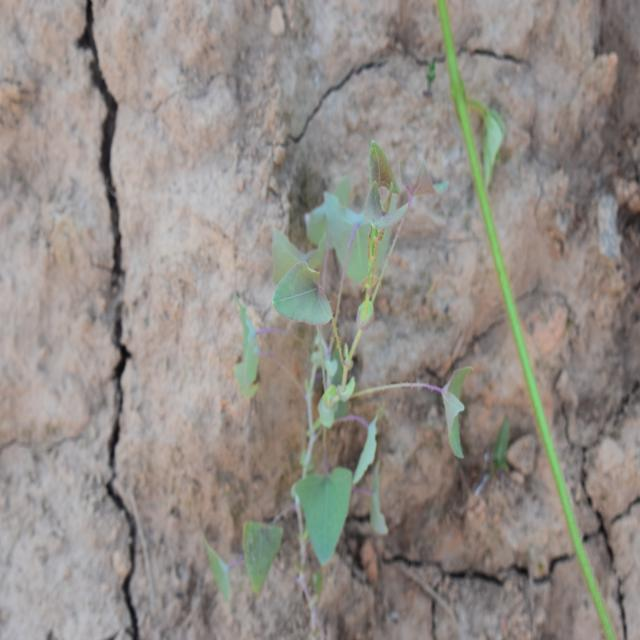Asiatic_Smartweed: (227, 164, 471, 536)
